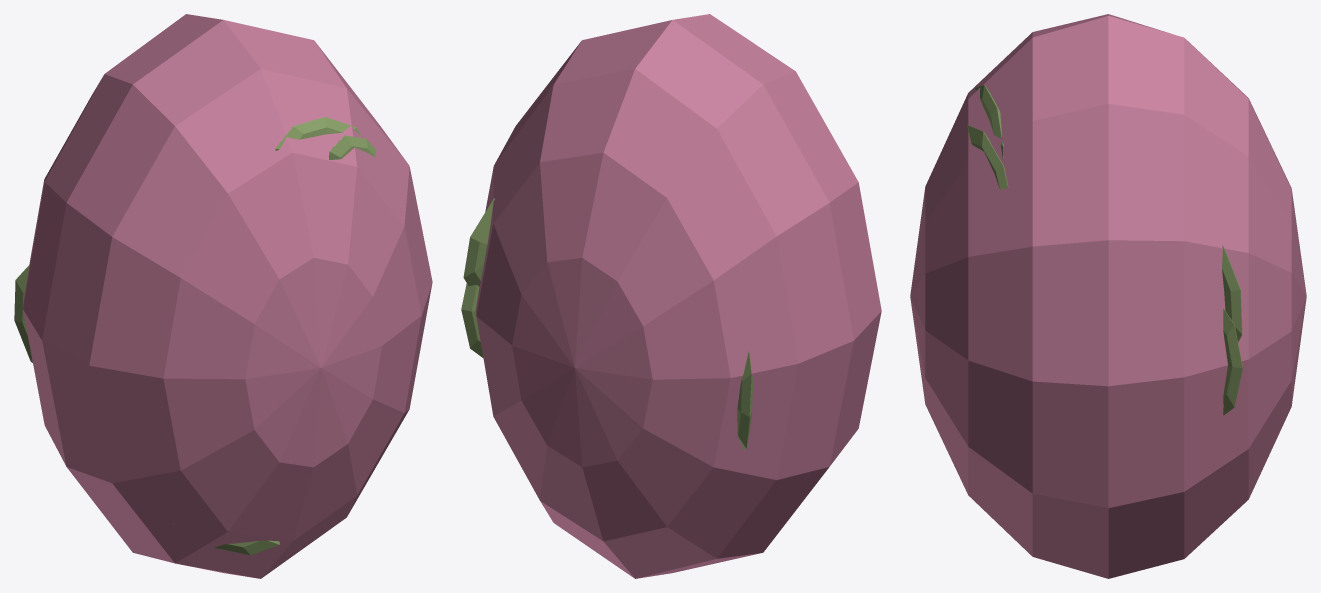
File: dragon_fruit.glb
3 renders of one model, left to right at view 1: azimuth 30°, elevation 25°; view 2: azimuth 150°, elevation 25°; view 3: azimuth 270°, elevation 25°, orthographic.
Visible parts, largest first — view 1: dragon_fruit; view 2: dragon_fruit; view 3: dragon_fruit.
Part boxes in pixels (x1=…): dragon_fruit: x1=14, y1=14, x2=432, y2=578; dragon_fruit: x1=461, y1=14, x2=881, y2=578; dragon_fruit: x1=910, y1=14, x2=1306, y2=578.
Size of the model in its own units: 0.09 by 0.1312 by 0.084.
